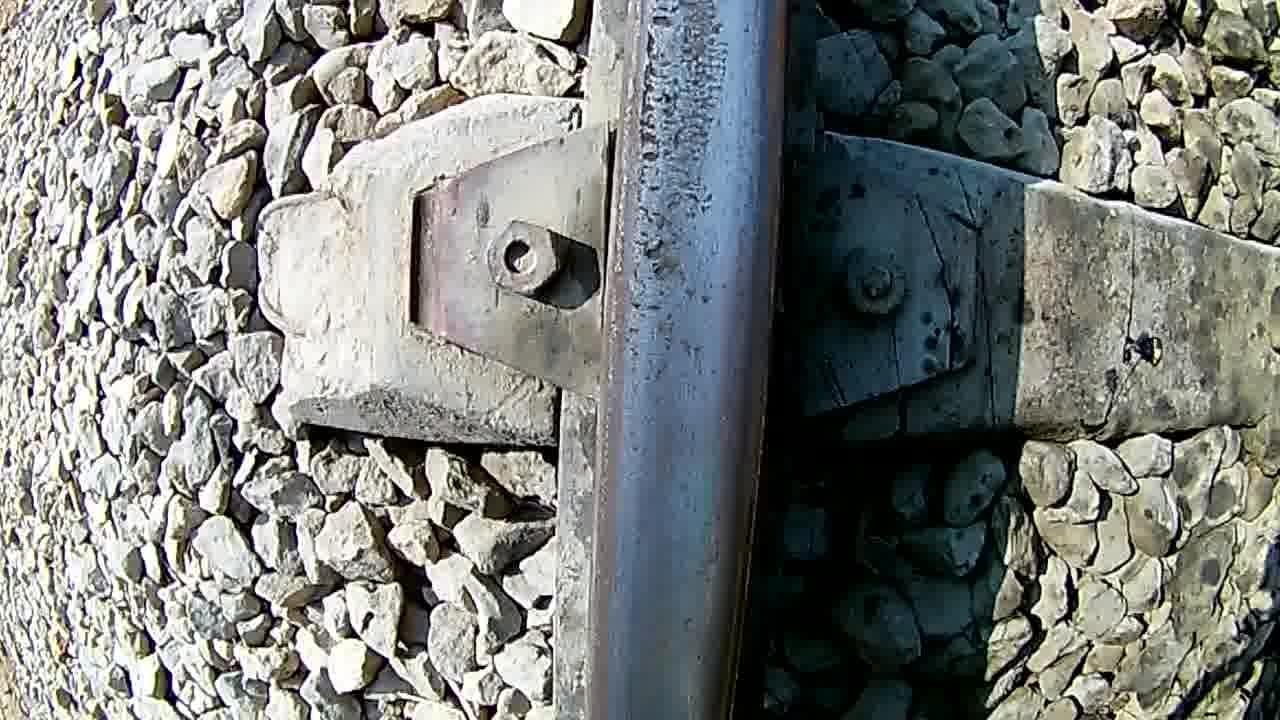crack: (586, 1, 769, 712)
